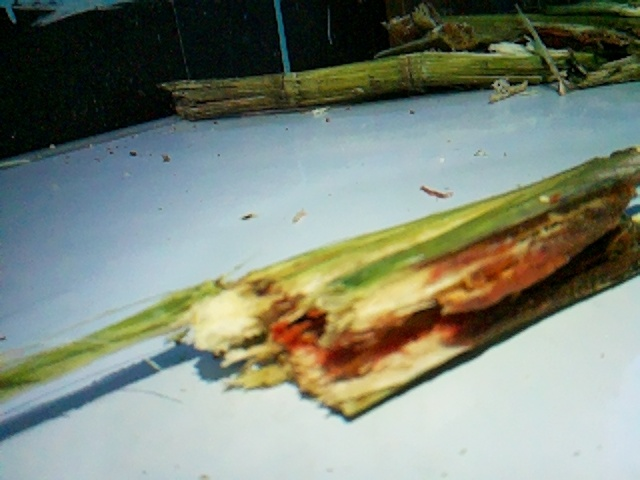Red-Rot: (246, 174, 640, 373)
